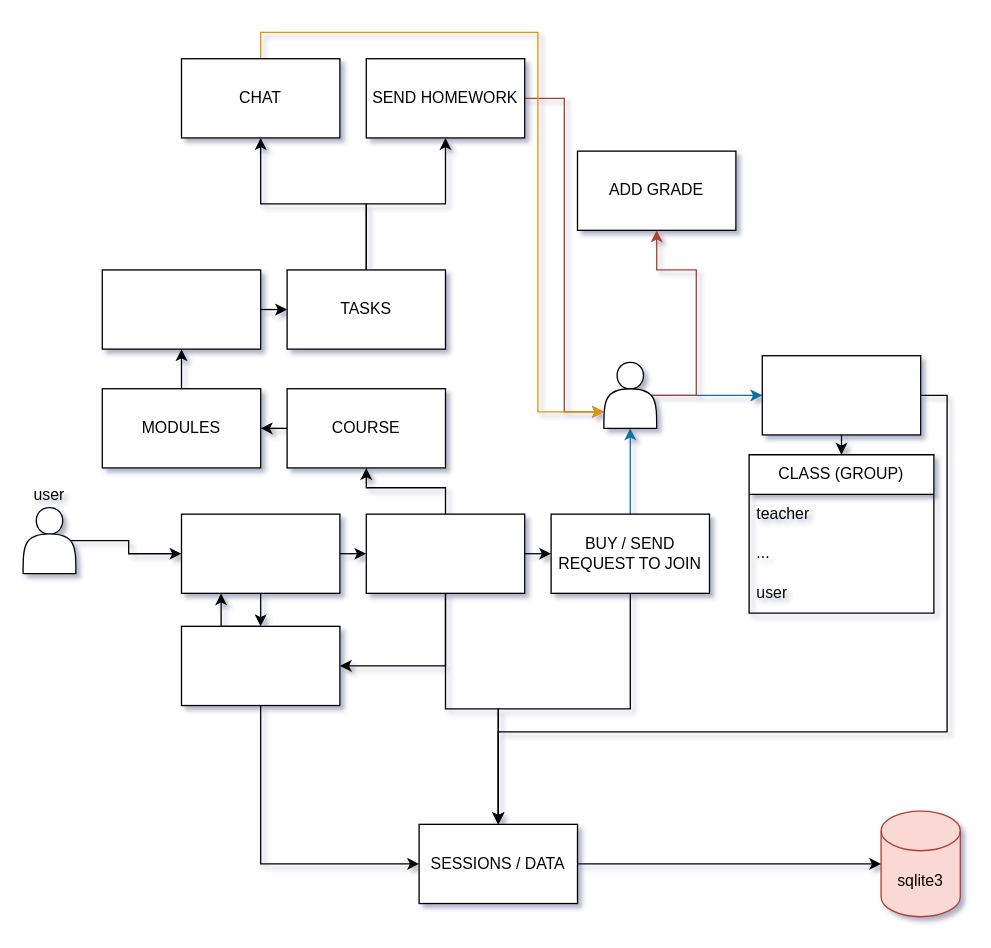
This 991x948 diagram has some shape labels left out. The box of each missing label's shape, as (x1, y1, x2, y2) in pixels:
ADD TO GROUP: (761, 354, 921, 435)
COURSES LIST: (365, 513, 525, 593)
LESSONS: (101, 269, 261, 349)
LOGIN / REG: (180, 625, 340, 706)
MAIN PAGE: (180, 513, 340, 593)
teacher admin: (603, 361, 657, 428)
